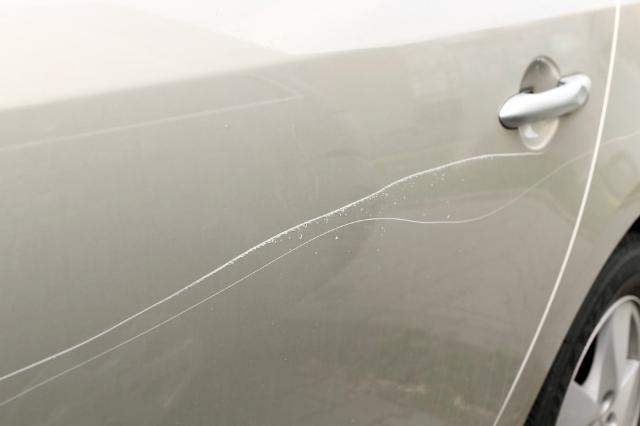scratch: (0, 152, 547, 408)
